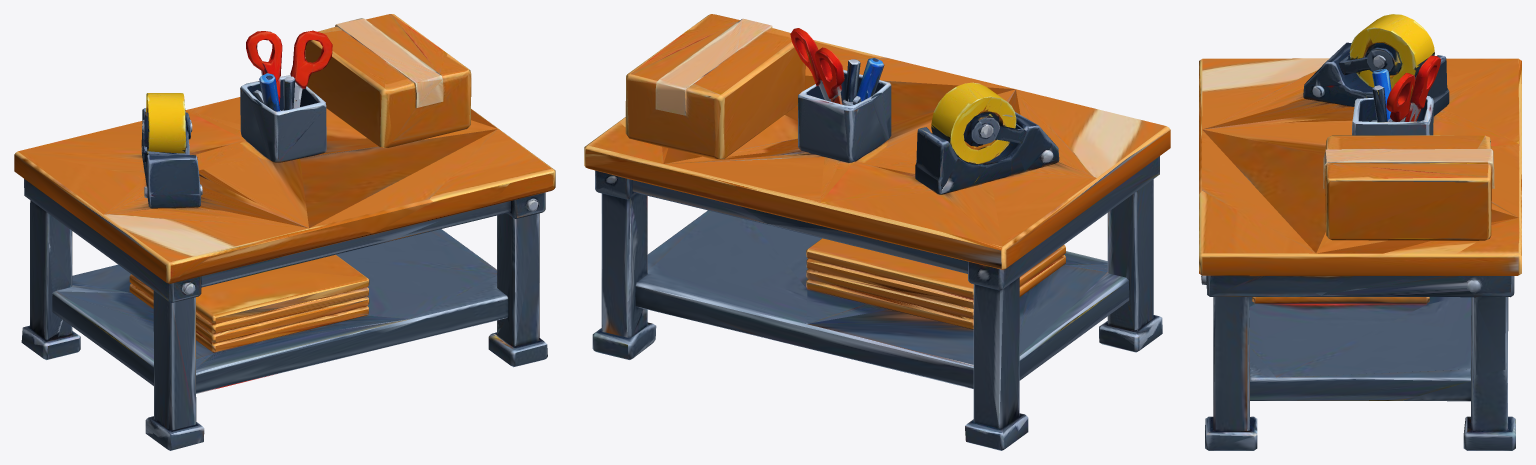
The model's file is packing-station.glb.
3 renders of one model, left to right at view 1: azimuth 30°, elevation 25°; view 2: azimuth 150°, elevation 25°; view 3: azimuth 270°, elevation 25°, orthographic. The views are drawn at different scales.
Visible parts, largest first — view 1: packing-station; view 2: packing-station; view 3: packing-station.
Part boxes in pixels (x1,y1,x2,y2): packing-station: (14, 14, 555, 450); packing-station: (584, 14, 1170, 450); packing-station: (1199, 14, 1521, 450).
Size of the model in its own units: 0.9996 by 0.7198 by 0.6885.
Materials: 1 (1 with a texture image).
